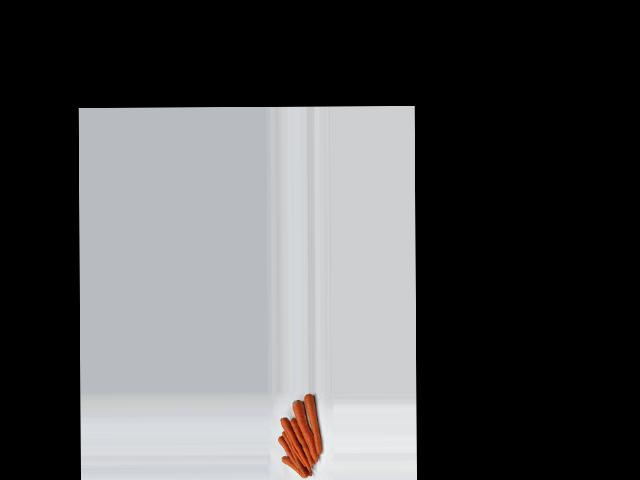carrot: (276, 457, 310, 479)
